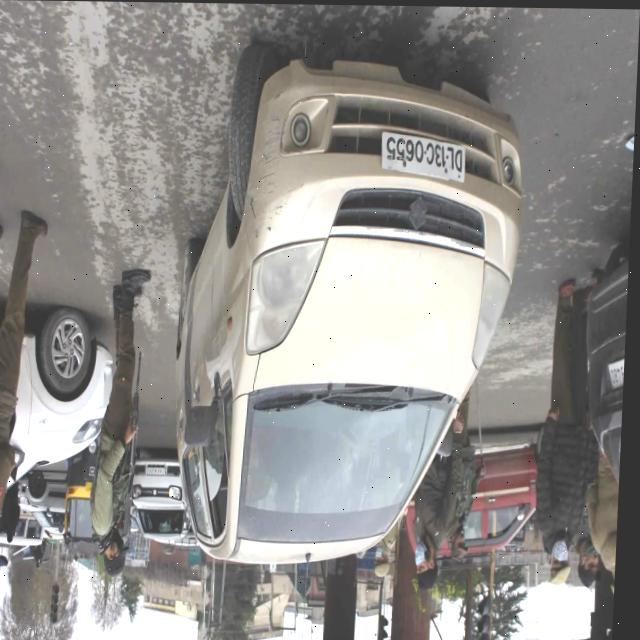plate: (376, 122, 473, 187), (607, 338, 628, 392), (148, 464, 172, 479), (88, 480, 99, 493)
